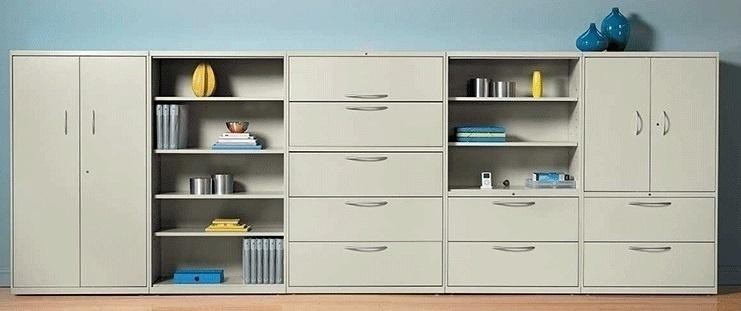cabinet_door: (9, 56, 74, 292), (78, 54, 143, 288), (585, 58, 650, 192), (651, 58, 713, 193), (289, 102, 442, 147), (290, 152, 442, 197), (290, 198, 442, 243), (288, 242, 443, 286), (289, 57, 442, 101), (446, 199, 579, 242), (584, 199, 715, 242), (447, 243, 577, 286), (584, 244, 714, 287)
handle: (345, 200, 390, 210), (489, 245, 539, 254), (492, 200, 539, 209), (345, 246, 392, 255), (345, 154, 392, 163), (627, 246, 677, 254), (627, 200, 675, 208), (61, 108, 74, 137), (633, 109, 646, 137), (346, 104, 391, 112), (661, 109, 672, 138), (344, 92, 392, 98), (89, 108, 98, 136)
